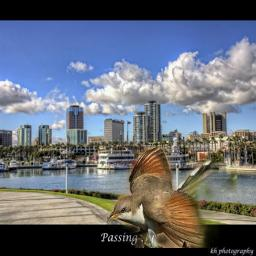Cuckoo: (107, 146, 237, 248)
